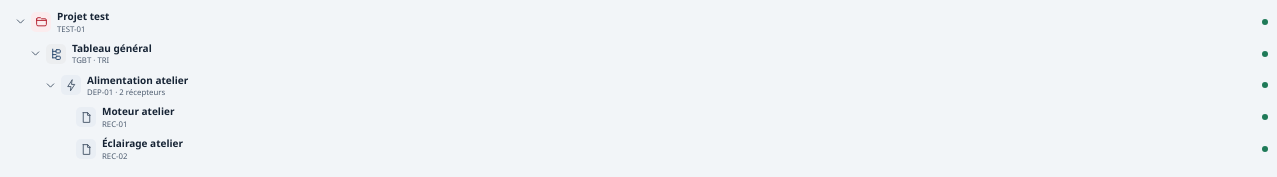
Test case: TreeView › replie et déplie une branche
Expected: the text "Moteur atelier" is shown, [102, 104, 174, 118]
Click the button named "Replier Tableau général": click(34, 54) [23, 41, 44, 66]
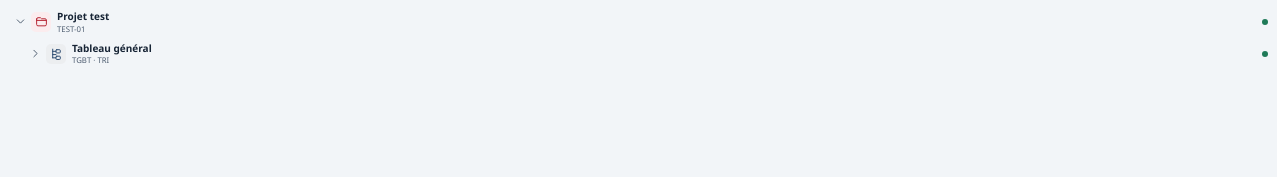
Now the button "Moteur atelier" is gone
Click the button named "Déplier Tableau général": click(34, 54) [23, 41, 44, 66]
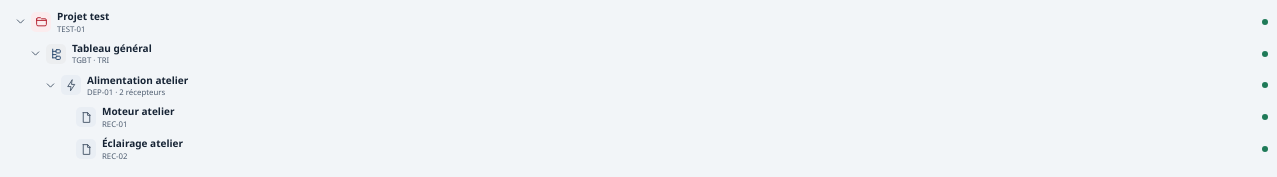
Now the text "Moteur atelier" is shown, box [102, 104, 174, 118]
